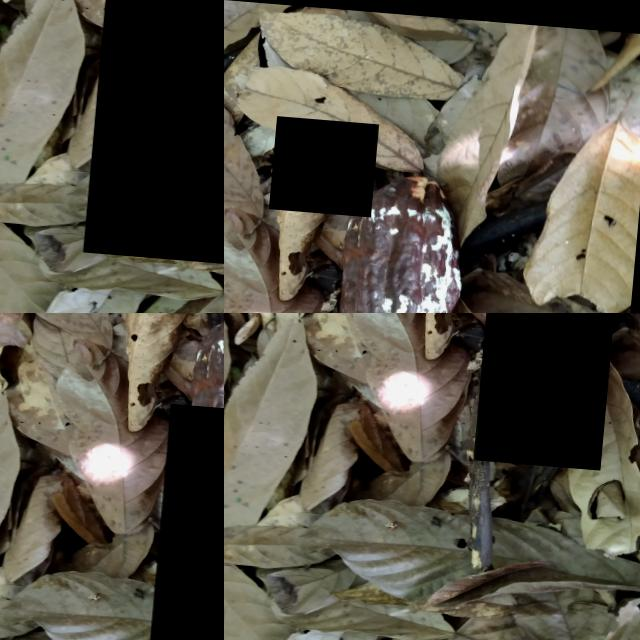Monilia: (224, 139, 354, 313), (480, 313, 623, 462), (157, 398, 224, 640), (273, 111, 381, 211)
Sana: (93, 0, 224, 265)
